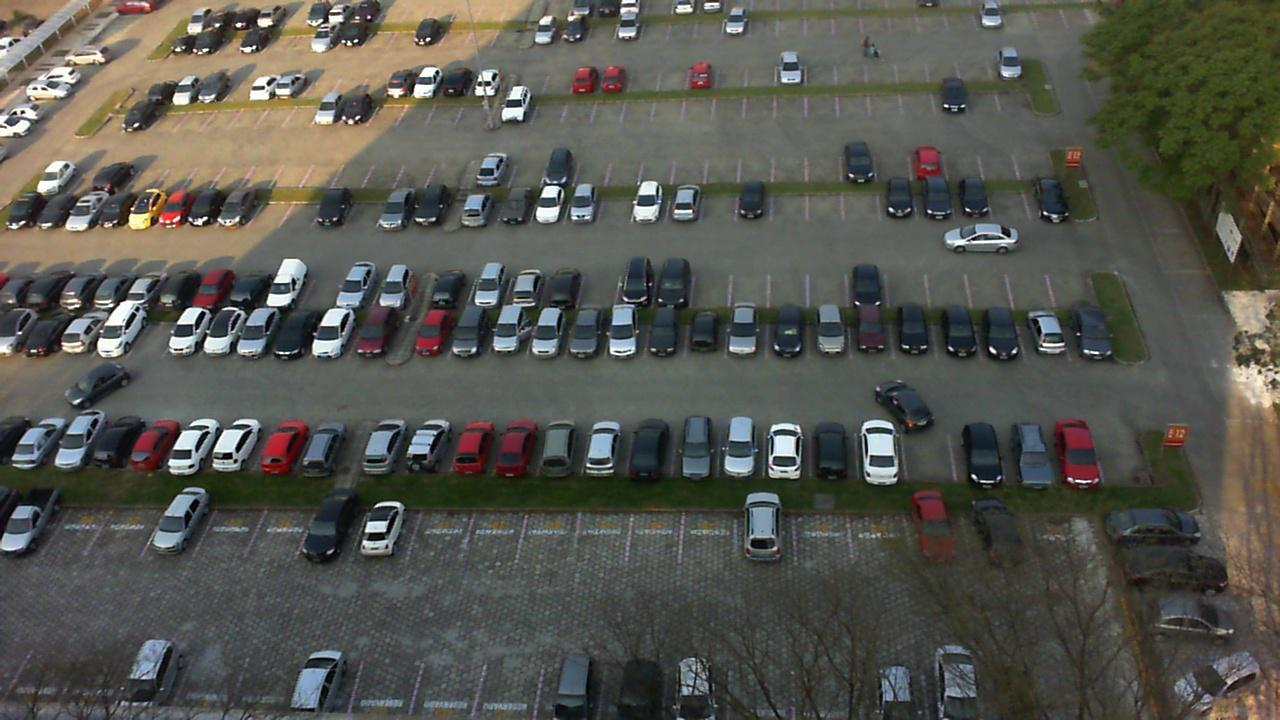empty: (188, 500, 264, 564), (246, 497, 315, 564), (87, 500, 158, 561), (461, 507, 527, 567), (1089, 416, 1151, 479), (408, 504, 475, 561), (518, 504, 581, 563), (624, 507, 683, 570), (42, 501, 110, 555), (576, 505, 629, 567), (903, 421, 957, 480), (966, 255, 1014, 309), (885, 254, 931, 307), (1051, 258, 1098, 306), (295, 266, 344, 312), (1011, 256, 1054, 307), (278, 185, 324, 230), (345, 185, 388, 233), (928, 257, 969, 307), (809, 254, 848, 306), (573, 263, 618, 308), (763, 260, 807, 306), (689, 260, 727, 309), (728, 264, 766, 307), (598, 186, 634, 230), (987, 180, 1027, 219), (775, 182, 807, 225), (807, 183, 842, 222), (844, 183, 879, 222), (702, 184, 734, 222)
occupied: (141, 501, 211, 563), (295, 499, 363, 562), (351, 501, 418, 558), (446, 416, 508, 477), (997, 419, 1054, 485), (127, 413, 185, 473), (1045, 417, 1098, 481), (952, 418, 1004, 482), (234, 305, 291, 363), (211, 417, 268, 474), (165, 417, 223, 473), (443, 306, 497, 366), (856, 422, 909, 482), (535, 420, 588, 478), (272, 301, 323, 361), (492, 418, 545, 475), (254, 416, 307, 472), (307, 308, 359, 365), (625, 418, 672, 481), (1059, 304, 1113, 358), (295, 421, 349, 475), (405, 416, 457, 472), (523, 304, 571, 364), (718, 417, 764, 479), (811, 421, 858, 480), (349, 306, 396, 364), (763, 417, 809, 476), (481, 309, 529, 365), (669, 419, 717, 475), (202, 304, 249, 361), (580, 419, 626, 477), (972, 307, 1022, 360), (362, 420, 412, 471), (259, 265, 312, 310), (410, 307, 449, 368), (226, 267, 280, 310), (606, 310, 648, 364), (934, 309, 976, 362), (375, 184, 421, 232), (888, 311, 934, 359), (1017, 311, 1062, 360), (310, 185, 355, 233), (335, 268, 386, 310), (643, 312, 685, 363), (849, 257, 889, 310), (565, 310, 604, 364), (725, 311, 766, 362), (808, 308, 848, 360), (1022, 175, 1068, 220), (377, 268, 424, 312), (851, 311, 891, 362), (458, 267, 503, 311), (409, 187, 452, 232), (461, 184, 503, 230), (767, 310, 804, 362), (426, 269, 471, 310), (503, 264, 546, 306), (614, 263, 655, 307), (537, 266, 580, 307), (690, 310, 724, 361), (648, 264, 688, 307), (956, 177, 992, 222), (735, 182, 772, 225), (565, 184, 599, 230), (917, 182, 956, 222), (534, 186, 567, 232), (500, 186, 535, 229), (665, 186, 699, 227), (880, 182, 915, 219), (632, 187, 664, 226)
